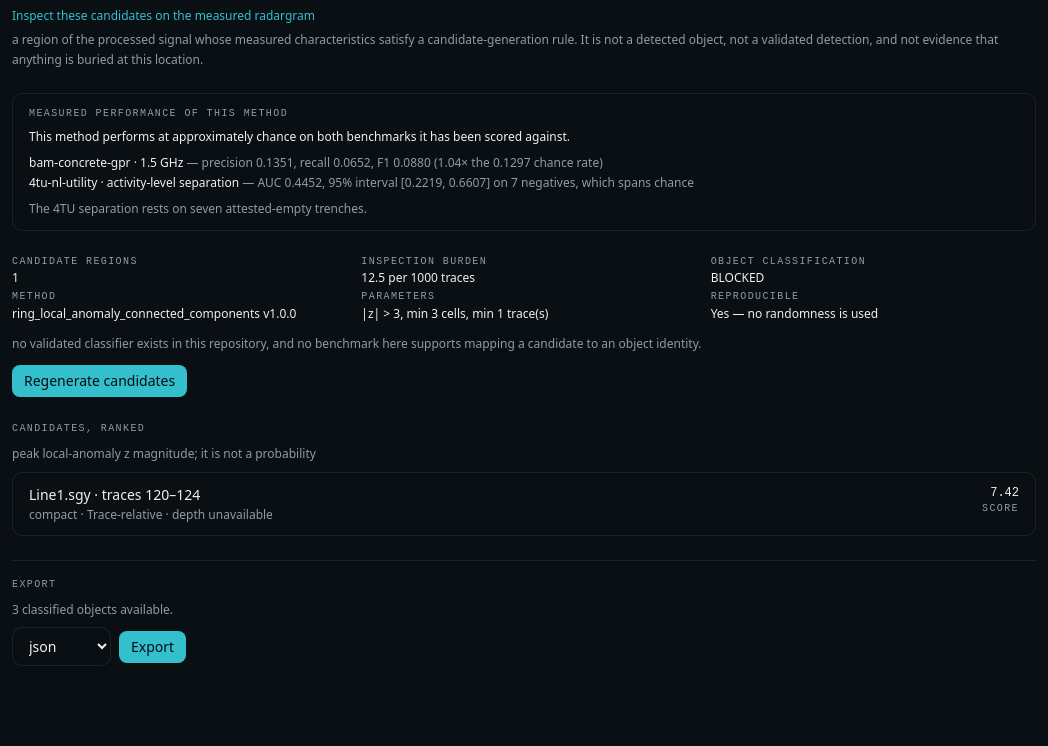
Test: export › exports the selected format and reports what was written and skipped
Expected: the text "7.42" is shown, [990,486,1019,500]
Select "geojson" in the dropdown showing "json" at (62, 647), box [12,627,111,666]
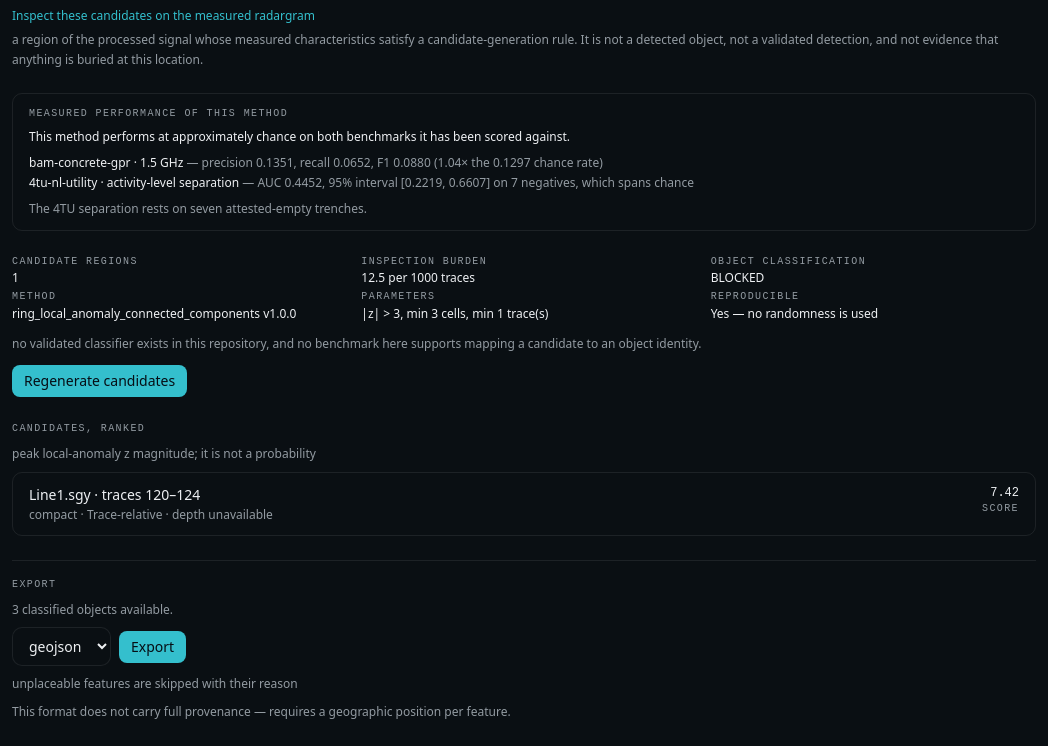
Click the button "Export" at (153, 647), box [119,631,186,663]
(page scrolled)
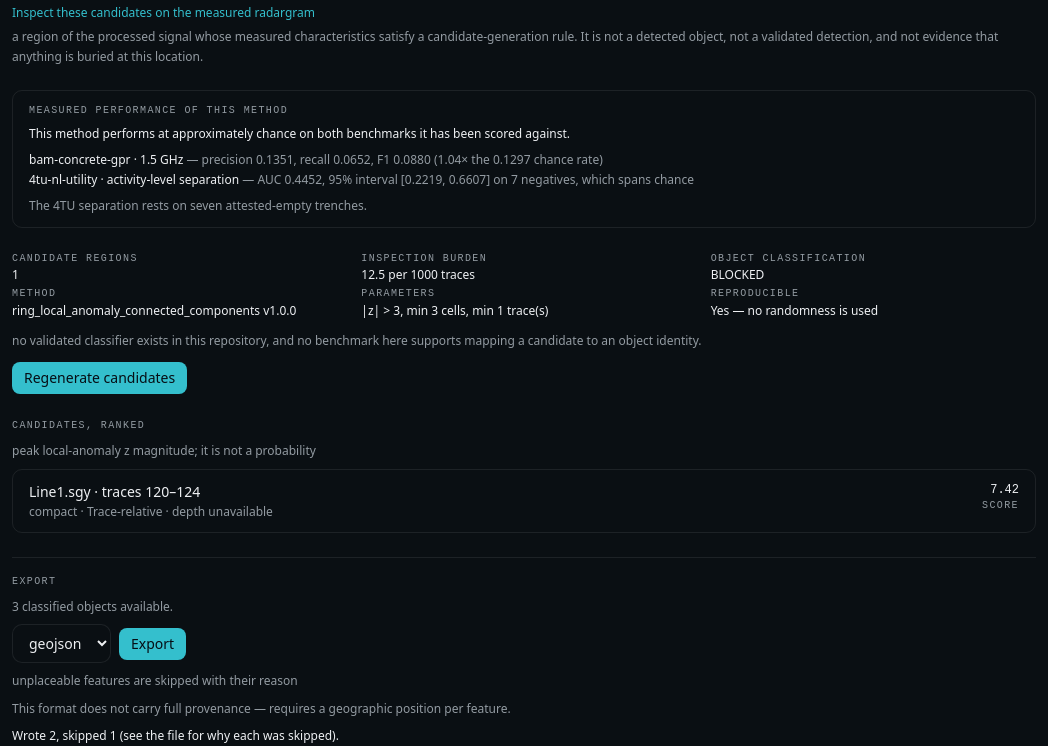
Result: the text "Wrote 2, skipped 1 (see the file for why each was skipped)." is shown at [12,727,339,744]
